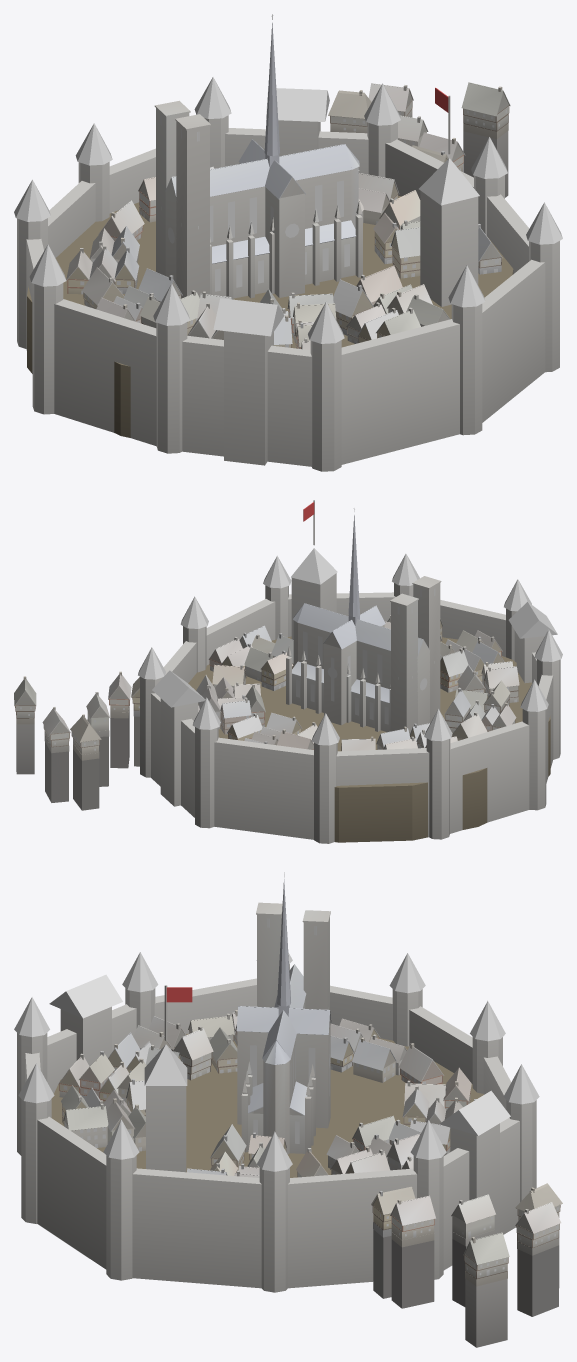
File: city_b.glb
3 views of the same model, one above another, from view 1: azimuth 30°, elevation 25°; view 2: azimuth 150°, elevation 25°; view 3: azimuth 270°, elevation 25° (orthographic). The views are drawn at different scales.
Visible parts, largest first — view 1: city_b; view 2: city_b; view 3: city_b.
Boxes of the visible parts, x1,y1,x2,y2 form: city_b: (14,14,562,471); city_b: (14,500,562,843); city_b: (14,872,562,1347).
Size of the model in its own units: 3.18 by 1.75 by 2.73.
